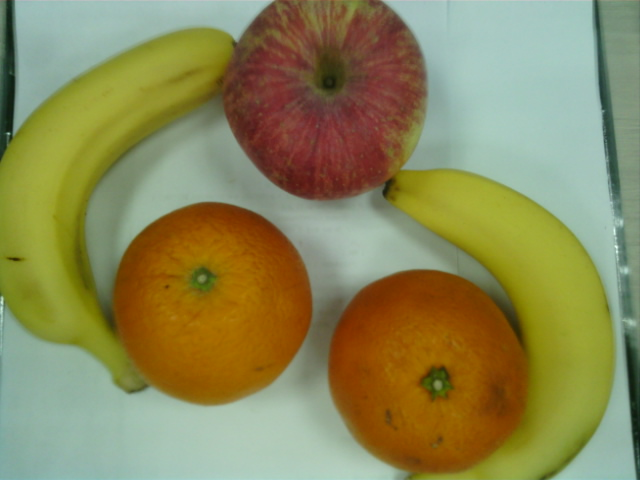normal_apple: (224, 1, 429, 200)
normal_banana: (2, 27, 235, 392), (387, 169, 612, 480)
normal_orange: (329, 270, 532, 472), (114, 203, 311, 407)
